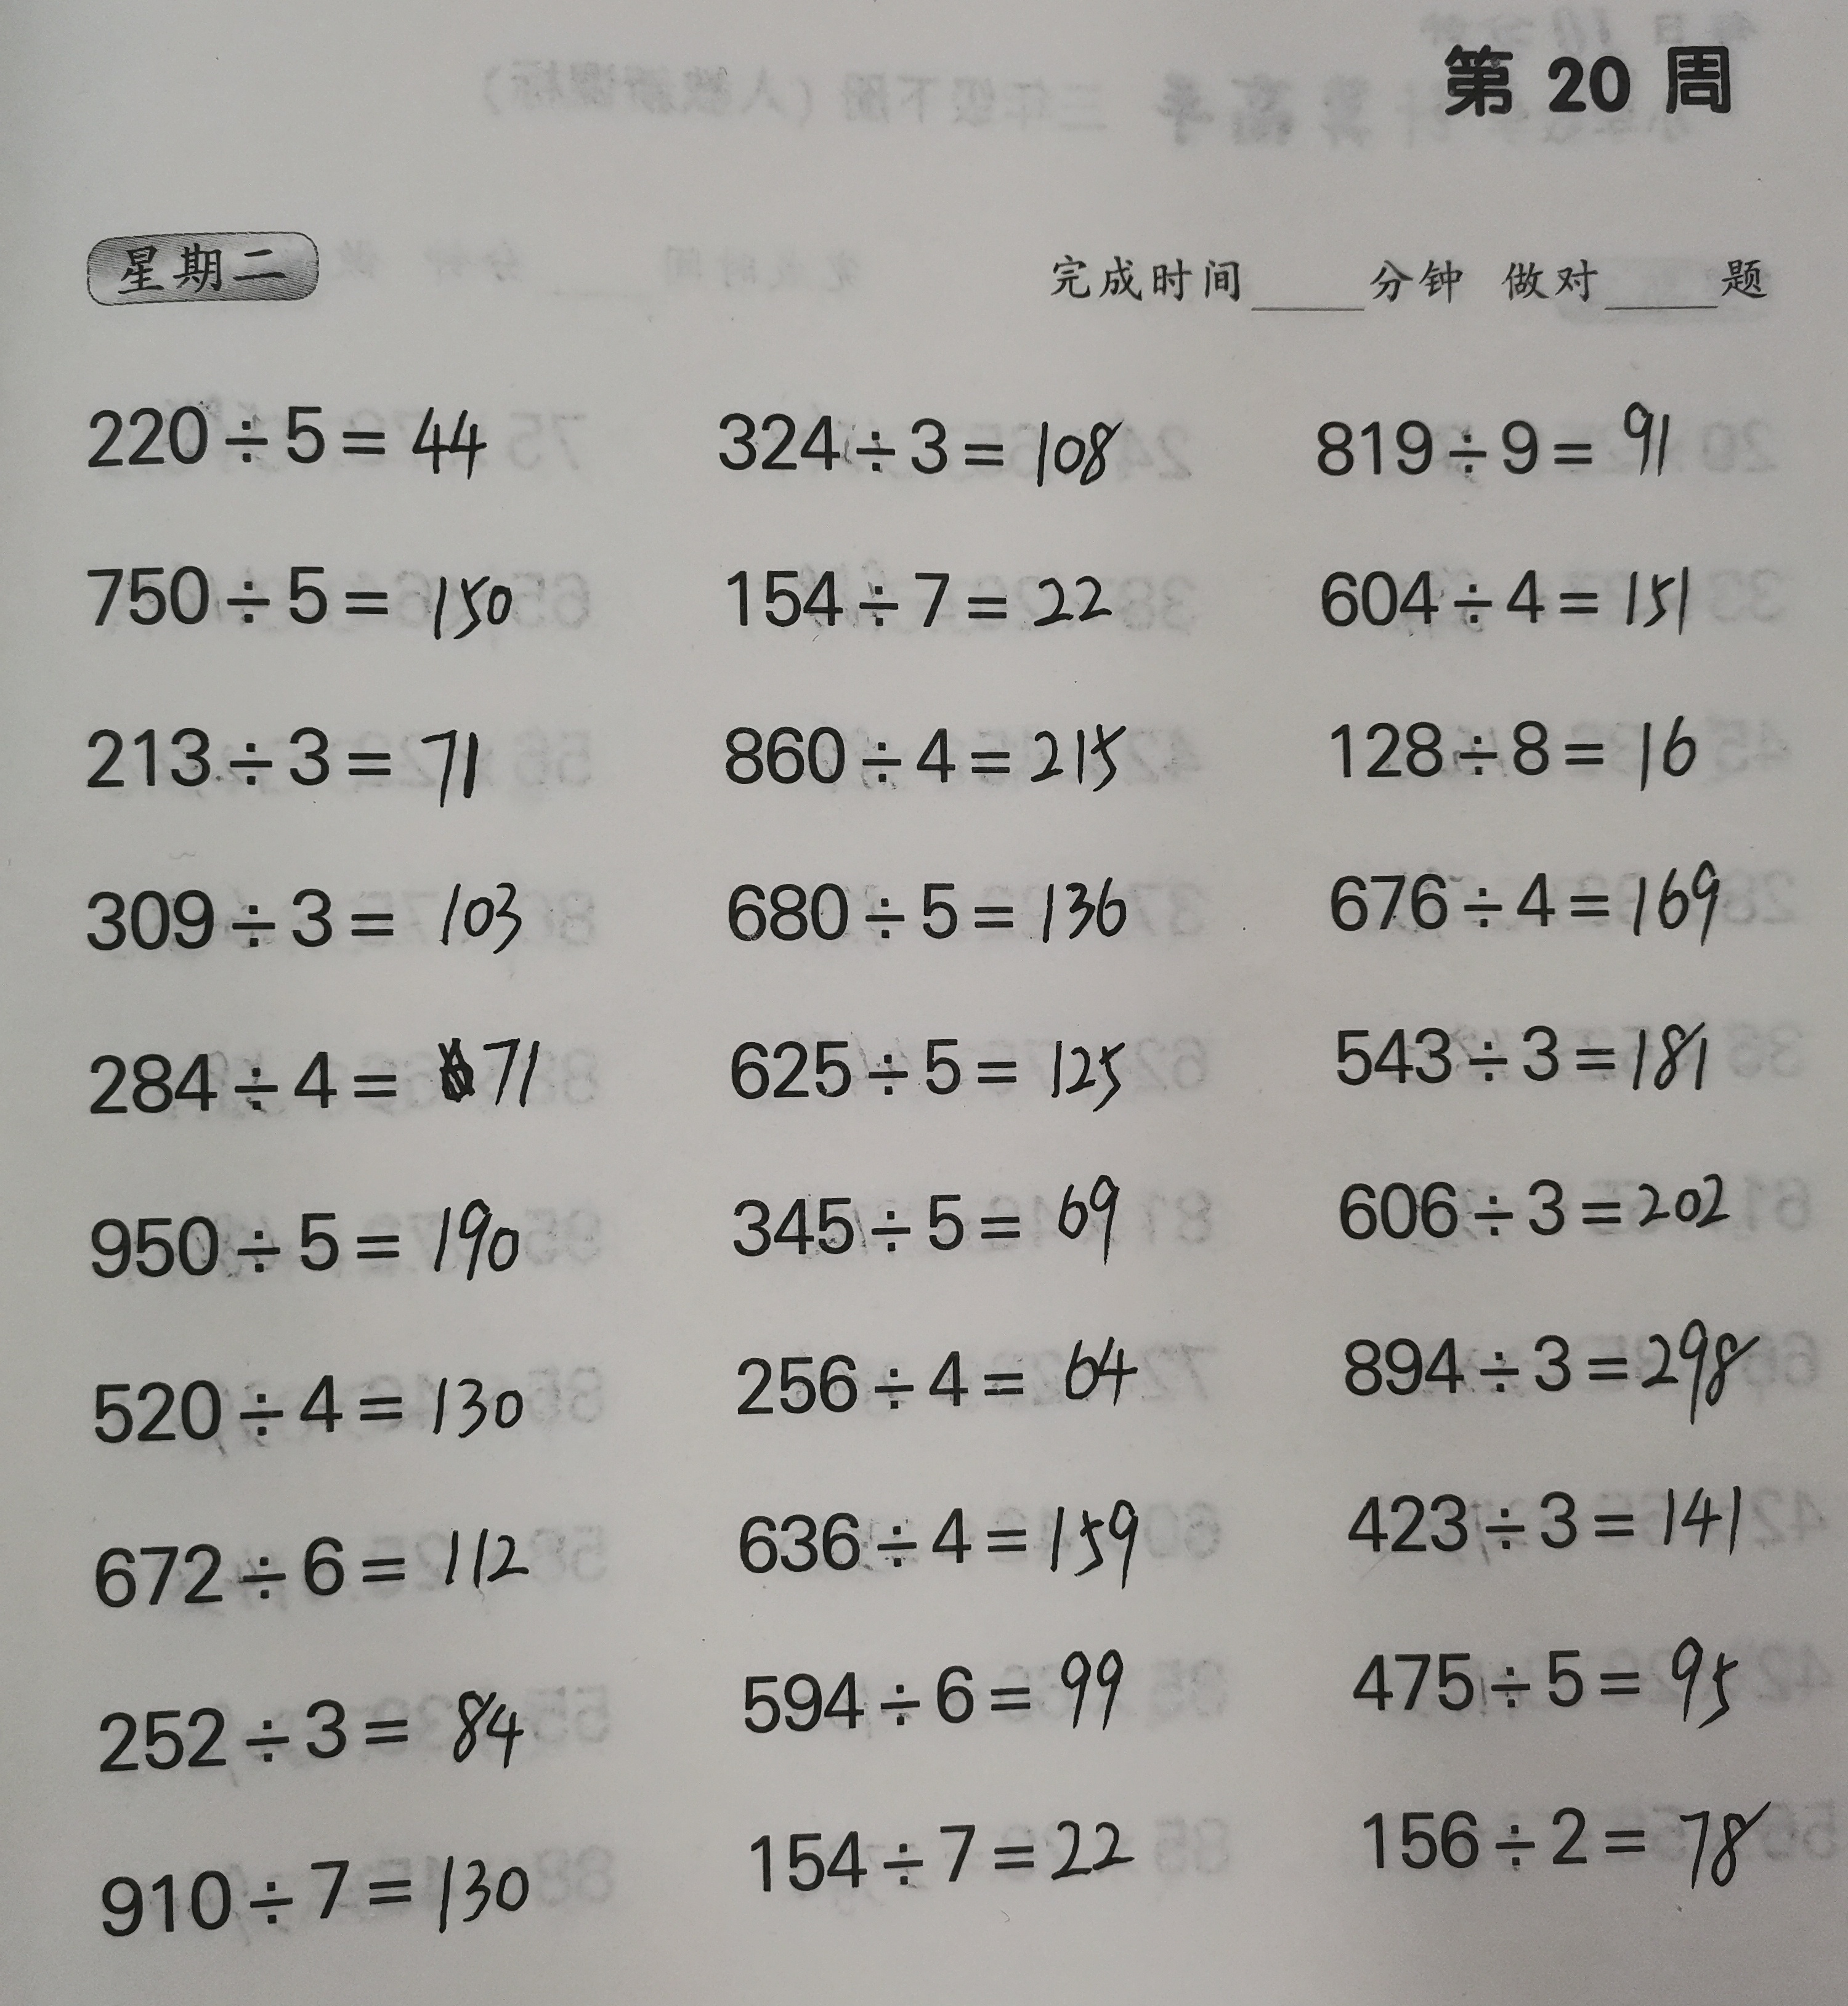equation: (65, 1172, 528, 1311), (722, 1463, 1170, 1601), (77, 1830, 559, 1957), (49, 1504, 572, 1622), (1329, 1613, 1761, 1753), (712, 367, 1131, 510), (58, 1017, 558, 1136), (1317, 1298, 1773, 1428), (1344, 1779, 1794, 1910), (699, 687, 1149, 816), (65, 543, 538, 662), (70, 1340, 531, 1459), (79, 1667, 554, 1782), (699, 847, 1159, 966), (733, 1793, 1164, 1913), (1303, 524, 1720, 648), (1304, 680, 1738, 799), (717, 1146, 1136, 1269), (49, 706, 505, 818), (713, 1311, 1156, 1426), (717, 1003, 1152, 1120), (731, 1632, 1140, 1756), (65, 369, 511, 482), (1311, 834, 1745, 947), (720, 526, 1128, 647), (1327, 1461, 1764, 1573), (1310, 998, 1740, 1111), (1317, 1148, 1752, 1260), (58, 867, 542, 963), (1310, 384, 1705, 501)
